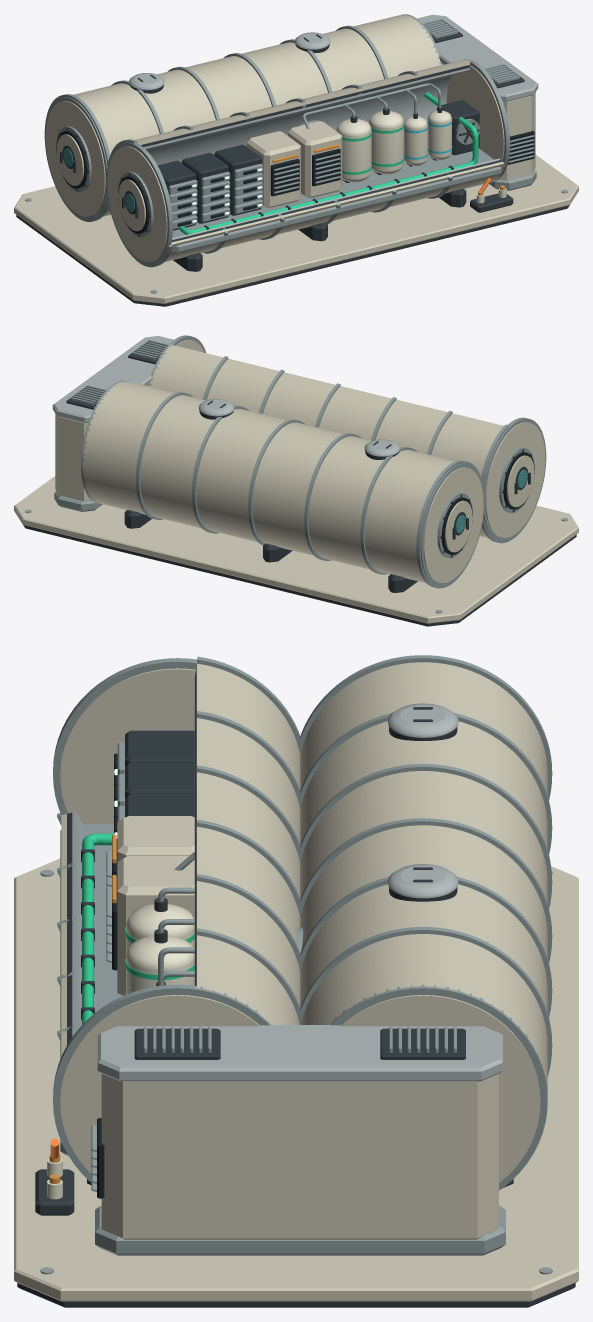
Rendered from p1_zone_a_backup_48h_cutaway.glb.
3 views of the same model, one above another, from view 1: azimuth 30°, elevation 25°; view 2: azimuth 150°, elevation 25°; view 3: azimuth 270°, elevation 25° (orthographic). The views are drawn at different scales.
Parts seen in each view (by area): view 1: Shell laminates (×2), Chamfered apron, Sectioned utility bay, East service module, Deck, Habitation module, Hydrogen, Access lock (×2), Reinforcing hoops (×2), Fuel cell stack 2, Fuel cell stack 1, Drawer column 2 (+8 smaller); view 2: Shell laminates (×2), Chamfered apron, East service module, Reinforcing hoops (×2), Habitation module, Sectioned utility bay, Access lock (×2), Habitation roof fittings; view 3: Shell laminates (×2), East service module, Chamfered apron, Sectioned utility bay, Reinforcing hoops (×2), Habitation module, Fuel cell stack 2, Hydrogen, Habitation roof fittings, Fuel cell stack 1, Deck, Drawer column 1 (+4 smaller).
Part boxes in pixels (x1=…): Shell laminates (×2): x1=73, y1=14, x2=505, y2=261; Chamfered apron: x1=14, y1=155, x2=578, y2=306; Sectioned utility bay: x1=106, y1=59, x2=510, y2=271; East service module: x1=417, y1=14, x2=538, y2=190; Deck: x1=172, y1=149, x2=502, y2=252; Habitation module: x1=44, y1=14, x2=443, y2=219; Hydrogen: x1=336, y1=108, x2=404, y2=182; Access lock (×2): x1=56, y1=126, x2=153, y2=237; Reinforcing hoops (×2): x1=44, y1=25, x2=452, y2=267; Fuel cell stack 2: x1=288, y1=121, x2=342, y2=197; Fuel cell stack 1: x1=246, y1=131, x2=300, y2=208; Drawer column 2: x1=182, y1=152, x2=230, y2=223; Shell laminates (×2): x1=82, y1=344, x2=503, y2=582; Chamfered apron: x1=14, y1=476, x2=578, y2=626; East service module: x1=52, y1=336, x2=173, y2=511; Reinforcing hoops (×2): x1=136, y1=356, x2=531, y2=588; Habitation module: x1=81, y1=380, x2=483, y2=592; Sectioned utility bay: x1=148, y1=335, x2=546, y2=541; Access lock (×2): x1=437, y1=447, x2=534, y2=558; Habitation roof fittings: x1=199, y1=399, x2=399, y2=459; Shell laminates (×2): x1=61, y1=662, x2=547, y2=1092; East service module: x1=91, y1=1025, x2=505, y2=1255; Chamfered apron: x1=14, y1=858, x2=578, y2=1307; Sectioned utility bay: x1=53, y1=658, x2=270, y2=1184; Reinforcing hoops (×2): x1=57, y1=655, x2=552, y2=1076; Habitation module: x1=330, y1=984, x2=547, y2=1190; Fuel cell stack 2: x1=106, y1=856, x2=194, y2=996; Hydrogen: x1=125, y1=898, x2=194, y2=994; Habitation roof fittings: x1=388, y1=703, x2=458, y2=901; Fuel cell stack 1: x1=106, y1=816, x2=194, y2=891; Deck: x1=60, y1=824, x2=121, y2=1155; Drawer column 1: x1=114, y1=730, x2=194, y2=803.
Size of the model in its own units: 10.5 by 3.02 by 5.8.
